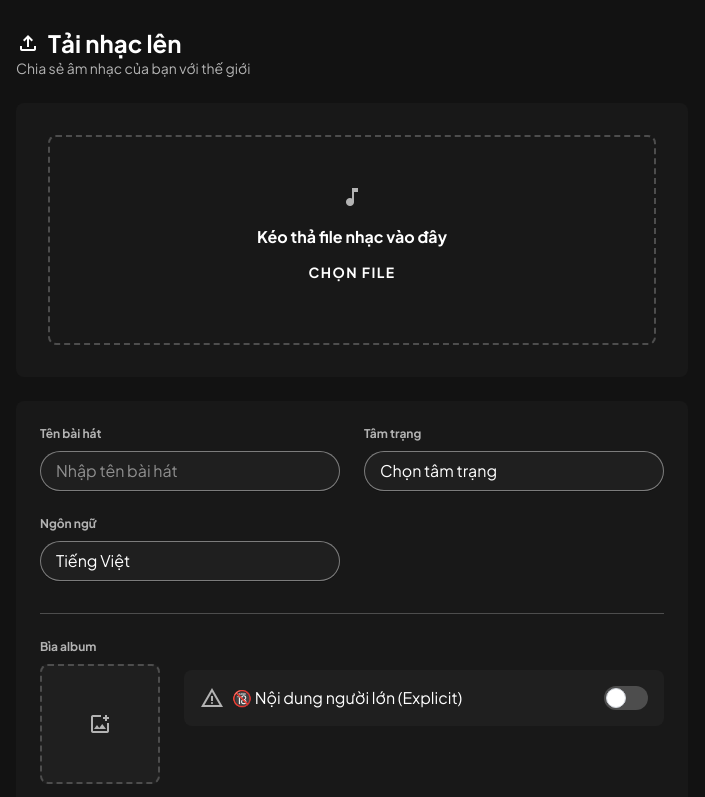
UploadPage › updates preview title when user types song name
Type "Bài hát mới" into the field labelled "Nhập tên bài hát" at [190, 471], box [40,451,340,491]
(page scrolled)
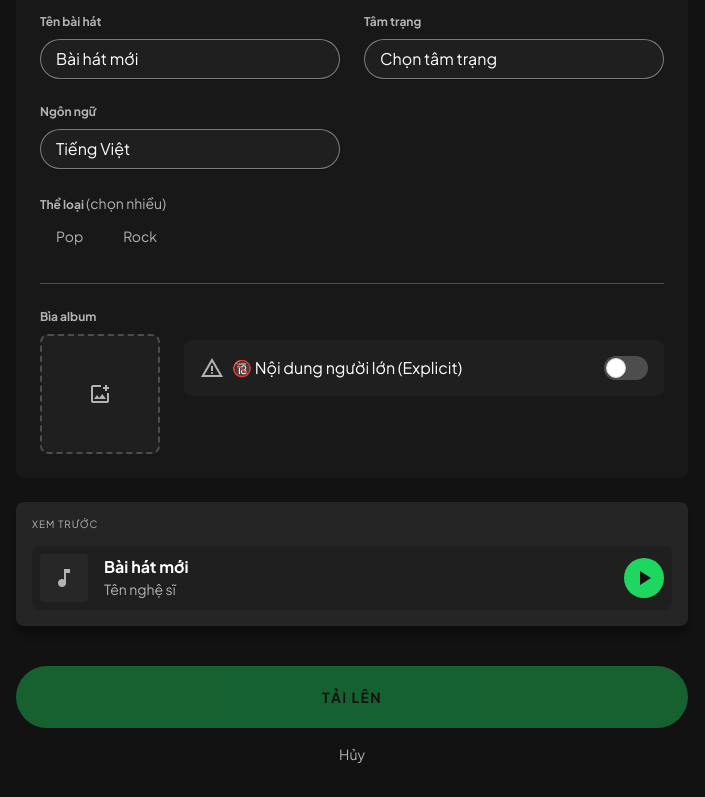
Check: the text "Bài hát mới" is shown, box [104,555,188,579]
